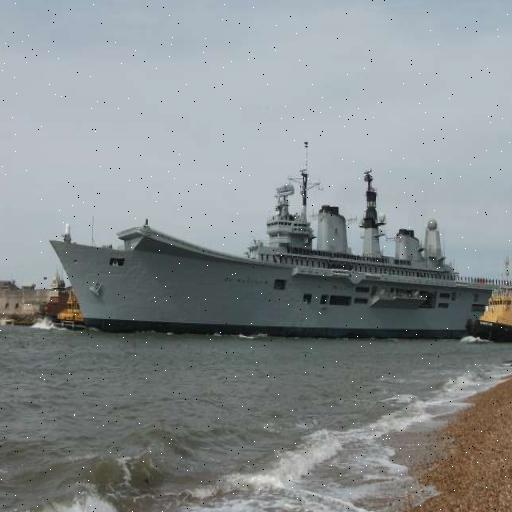Portanaves: (46, 133, 512, 336)
